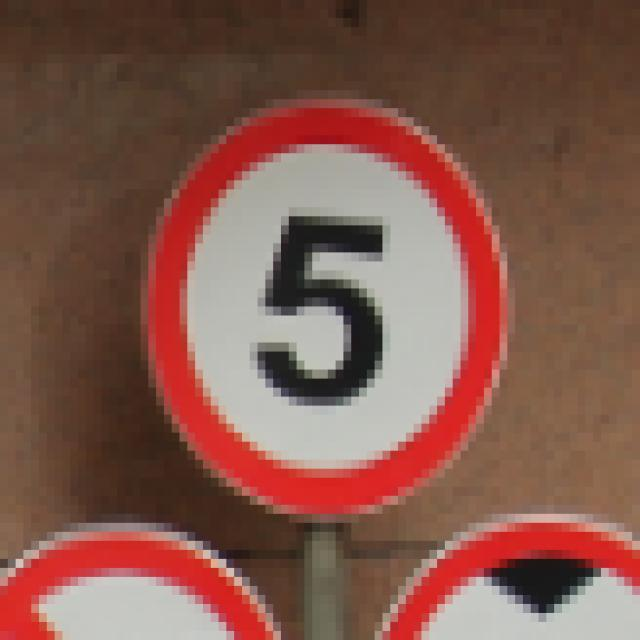Speed: (117, 67, 530, 532)
